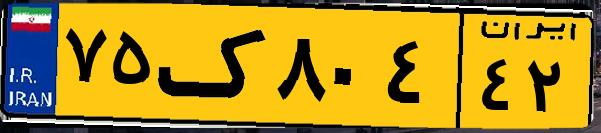0: (330, 28, 385, 110)
2: (525, 38, 570, 115)
4: (385, 28, 445, 110), (475, 38, 525, 113)
5: (110, 28, 158, 98)
7: (57, 26, 110, 100)
8: (270, 28, 330, 110)
ک: (158, 12, 270, 120)
